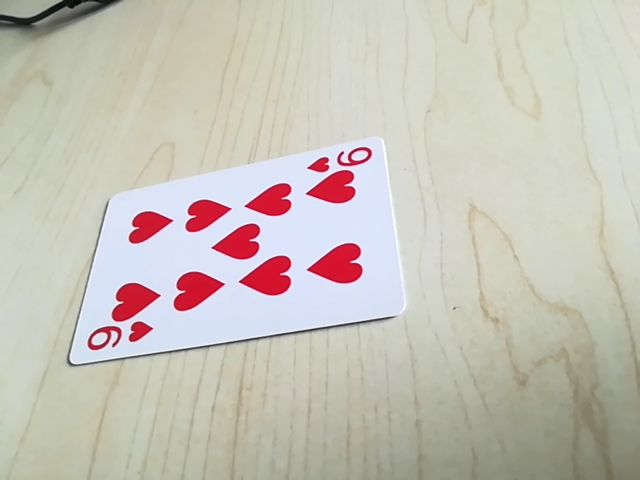hx 9: (82, 321, 154, 358), (307, 144, 378, 174)
